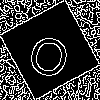O: (25, 25, 76, 81)
